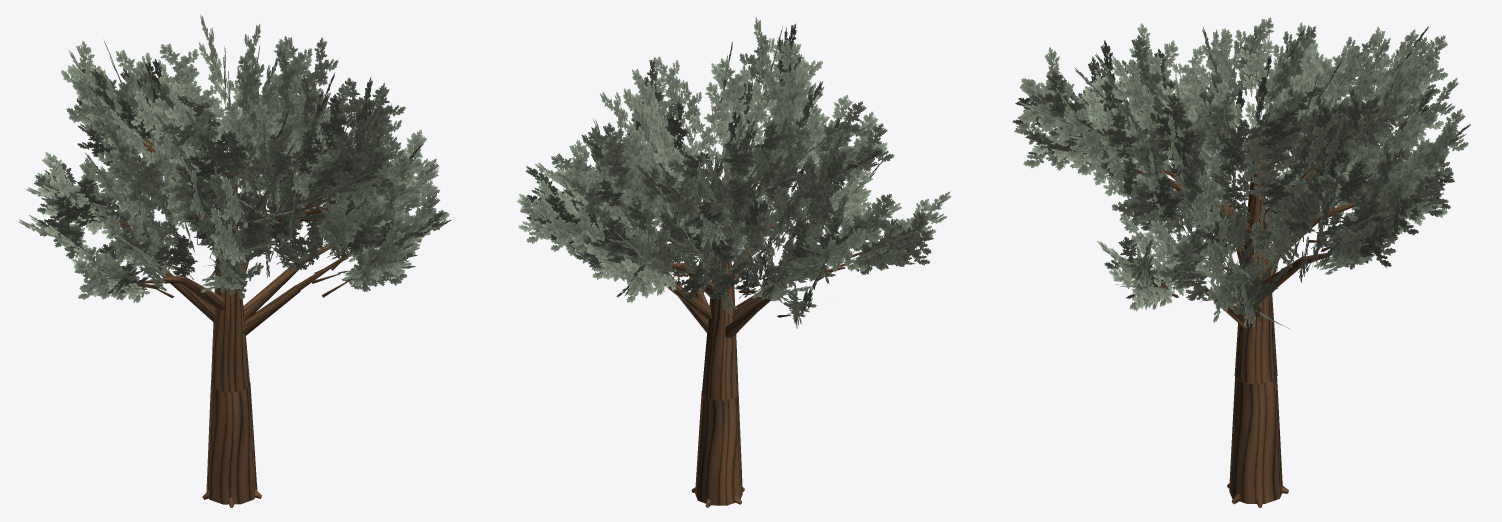
The model's file is oak_b.glb.
3 views of the same model, side by side, from view 1: azimuth 30°, elevation 25°; view 2: azimuth 150°, elevation 25°; view 3: azimuth 270°, elevation 25° (orthographic). The views are drawn at different scales.
Visible parts, largest first — view 1: oak_b; view 2: oak_b; view 3: oak_b.
Boxes of the visible parts, x1,y1,x2,y2 form: oak_b: (18,14,451,507); oak_b: (517,17,951,507); oak_b: (1012,17,1470,507).
Size of the model in its own units: 1.95 by 1.91 by 1.85.
Materials: 1 (1 with a texture image).
